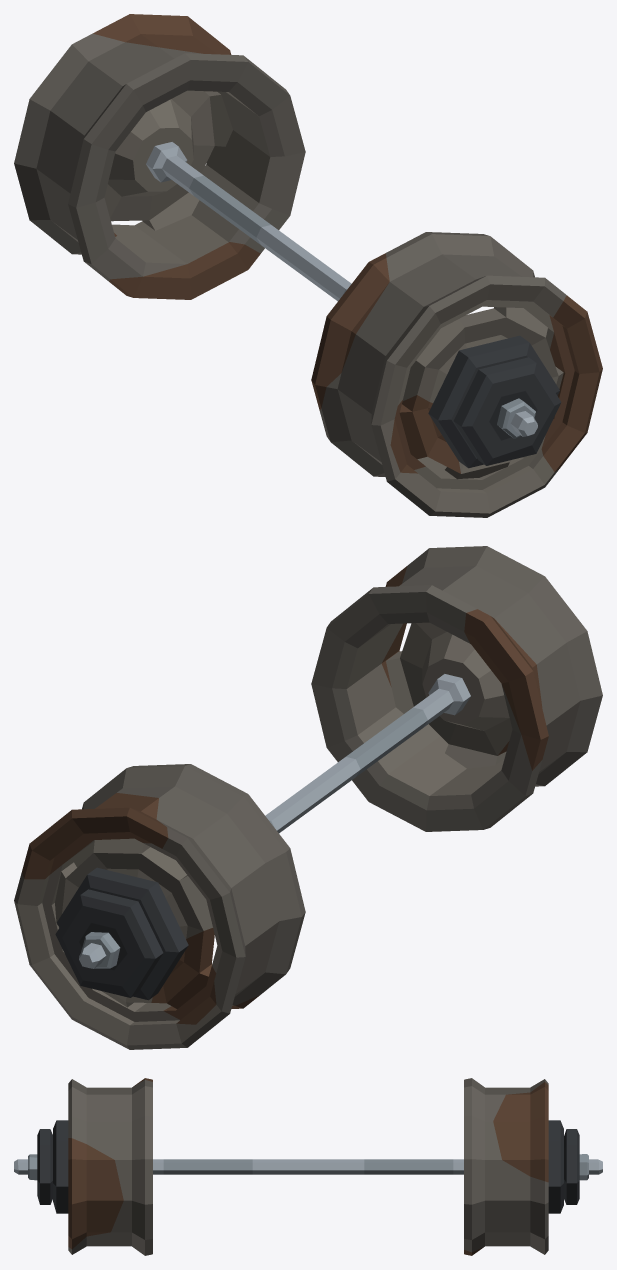
Rendered from SM_Prop_Bar_Bell_03.fbx.
3 views of the same model, one above another, from view 1: azimuth 30°, elevation 25°; view 2: azimuth 150°, elevation 25°; view 3: azimuth 270°, elevation 25° (orthographic). The views are drawn at different scales.
Visible parts, largest first — view 1: SM_Prop_Bar_Bell_03; view 2: SM_Prop_Bar_Bell_03; view 3: SM_Prop_Bar_Bell_03.
Boxes of the visible parts, x1,y1,x2,y2 form: SM_Prop_Bar_Bell_03: [14, 14, 602, 517]; SM_Prop_Bar_Bell_03: [14, 546, 602, 1049]; SM_Prop_Bar_Bell_03: [14, 1078, 602, 1255].
Size of the model in its own units: 56 by 56 by 185.
